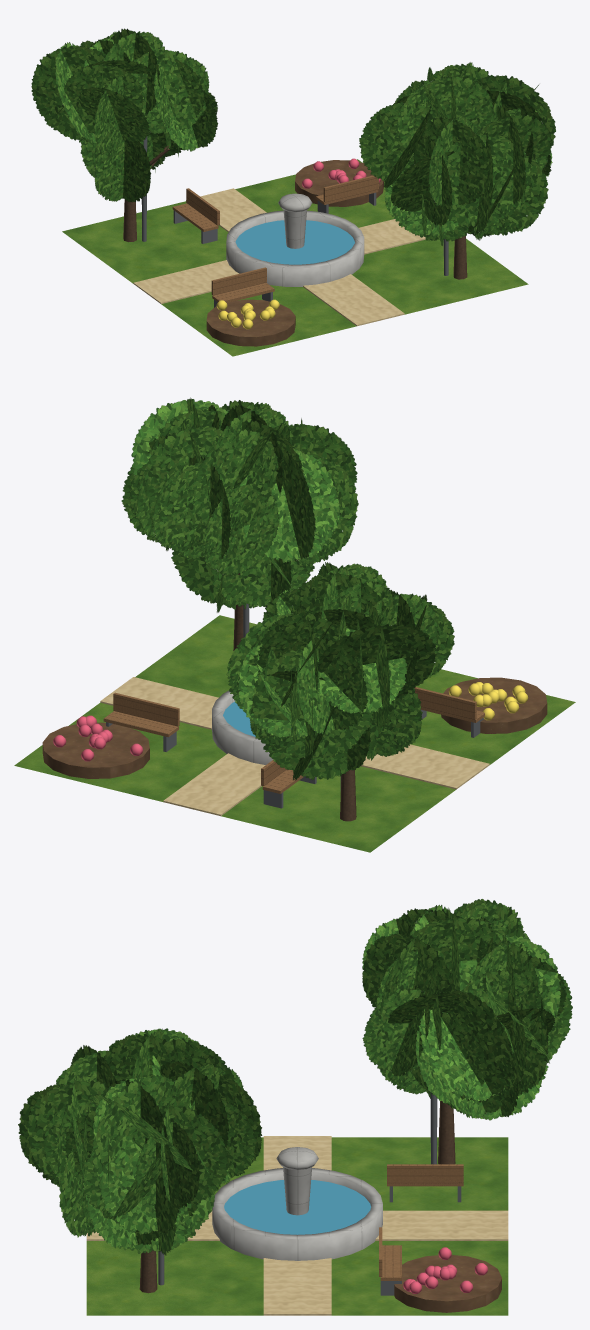
Rendered from park_1.gltf.
The picture shows the model from 3 angles, top to bottom: view 1: azimuth 30°, elevation 25°; view 2: azimuth 150°, elevation 25°; view 3: azimuth 270°, elevation 25°; orthographic projection. The views are drawn at different scales.
Parts seen in each view (by area): view 1: park_1; view 2: park_1; view 3: park_1.
Boxes of the visible parts, x1=… form: park_1: x1=31, y1=28, x2=555, y2=356; park_1: x1=14, y1=397, x2=575, y2=852; park_1: x1=18, y1=899, x2=572, y2=1315.
Size of the model in its own units: 2.59 by 1.37 by 2.64.
12 materials, 7 textured.
